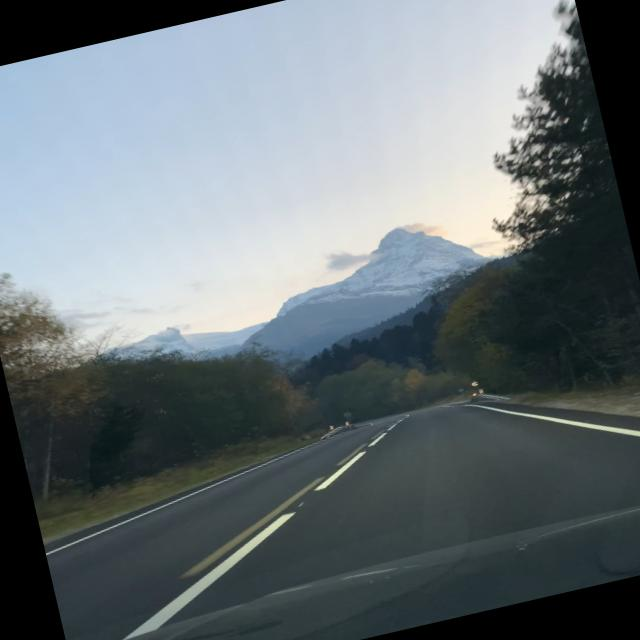asphalt: (44, 398, 640, 640)
